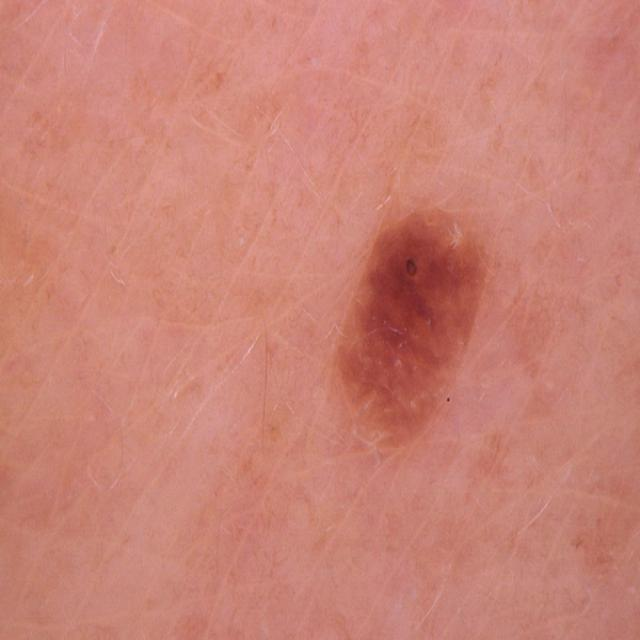Skin-Cancer Pigmented benign keratosis: (98, 43, 593, 611)
